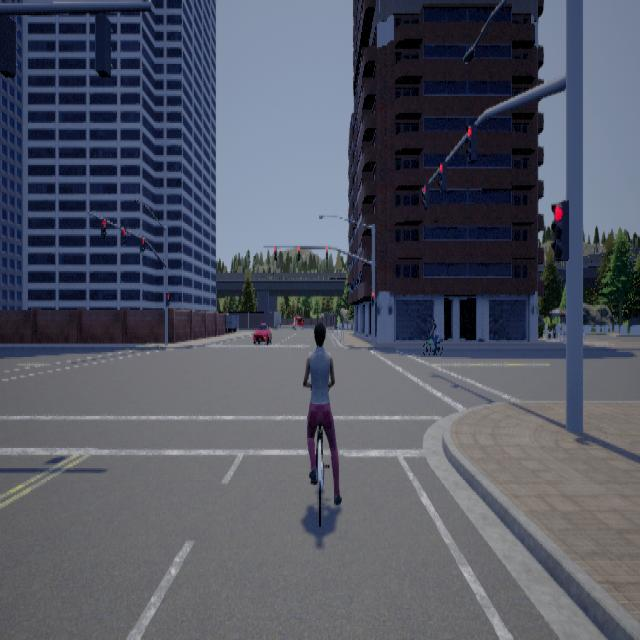bike: (302, 320, 343, 531), (420, 315, 444, 357)
red_light: (550, 199, 568, 259), (465, 123, 476, 162), (437, 160, 446, 190), (421, 182, 428, 209), (100, 218, 106, 238), (120, 228, 125, 245), (139, 236, 144, 251), (165, 291, 169, 305), (298, 246, 300, 260), (372, 292, 374, 305), (326, 247, 328, 260), (274, 247, 276, 260)
vehicle: (251, 316, 271, 344)
